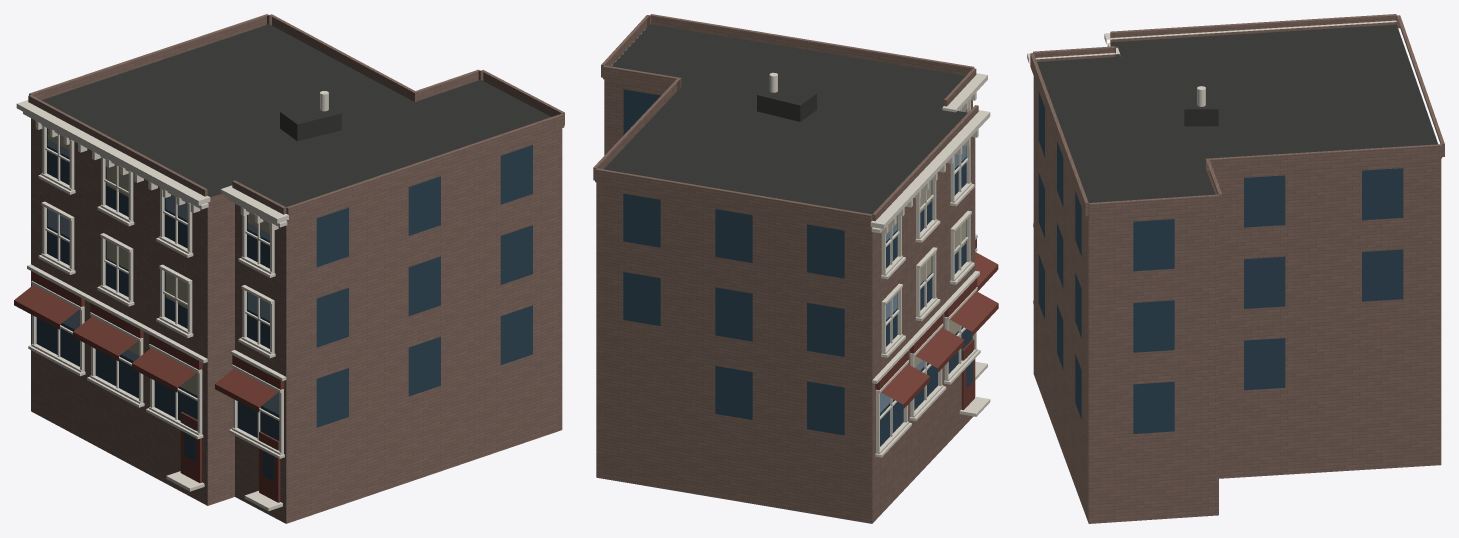
The picture shows the model from 3 angles, left to right: view 1: azimuth 30°, elevation 25°; view 2: azimuth 150°, elevation 25°; view 3: azimuth 270°, elevation 25°; orthographic projection. The views are drawn at different scales.
Visible parts, largest first — view 1: Footprint 0 / surface 2, Footprint 0 / surface 1, Inset glazing, Cornices and window frames, Facade bay volumes, Storefronts and doors, Interior blind variation, Sky reflection panels, Inferred rooftop service enclosure / surface 5, Inferred rooftop service enclosure / surface 3; view 2: Footprint 0 / surface 2, Footprint 0 / surface 1, Inset glazing, Cornices and window frames, Facade bay volumes, Storefronts and doors, Interior blind variation, Inferred rooftop service enclosure / surface 6, Inferred rooftop service enclosure / surface 3, Sky reflection panels; view 3: Footprint 0 / surface 2, Footprint 0 / surface 1, Inset glazing, Facade bay volumes, Cornices and window frames, Inferred rooftop service enclosure / surface 3, Inferred rooftop service enclosure / surface 1.
Part boxes in pixels (x1,y1,x2,y2): Footprint 0 / surface 2: (31,118,562,523); Footprint 0 / surface 1: (42,24,550,207); Inset glazing: (36,128,532,481); Cornices and window frames: (16,100,288,511); Facade bay volumes: (28,14,564,221); Storefronts and doors: (14,271,284,502); Interior blind variation: (48,128,269,395); Sky reflection panels: (47,128,279,414); Inferred rooftop service enclosure / surface 5: (297,113,341,140); Inferred rooftop service enclosure / surface 3: (280,102,340,124); Footprint 0 / surface 2: (596,79,975,523); Footprint 0 / surface 1: (604,24,967,214); Inset glazing: (623,89,972,446); Cornices and window frames: (870,73,990,457); Facade bay volumes: (593,14,978,228); Storefronts and doors: (875,239,998,409); Interior blind variation: (886,109,966,367); Inferred rooftop service enclosure / surface 6: (757,95,800,121); Inferred rooftop service enclosure / surface 3: (757,84,816,105); Sky reflection panels: (880,111,966,412); Footprint 0 / surface 2: (1033,42,1441,523); Footprint 0 / surface 1: (1037,24,1437,202); Inset glazing: (1038,91,1403,433); Facade bay volumes: (1030,14,1444,217); Cornices and window frames: (1027,20,1396,303); Inferred rooftop service enclosure / surface 3: (1184,87,1218,109); Inferred rooftop service enclosure / surface 1: (1184,109,1218,126).
Bounding box in the file's own units: 16.48 × 13.22 × 14.47.
